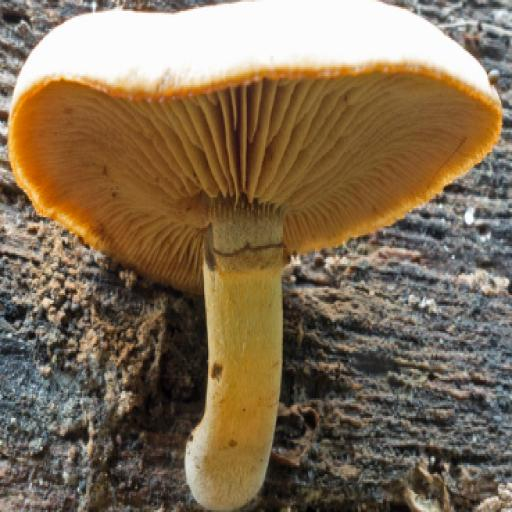Funeral Bell: (8, 0, 502, 509)
